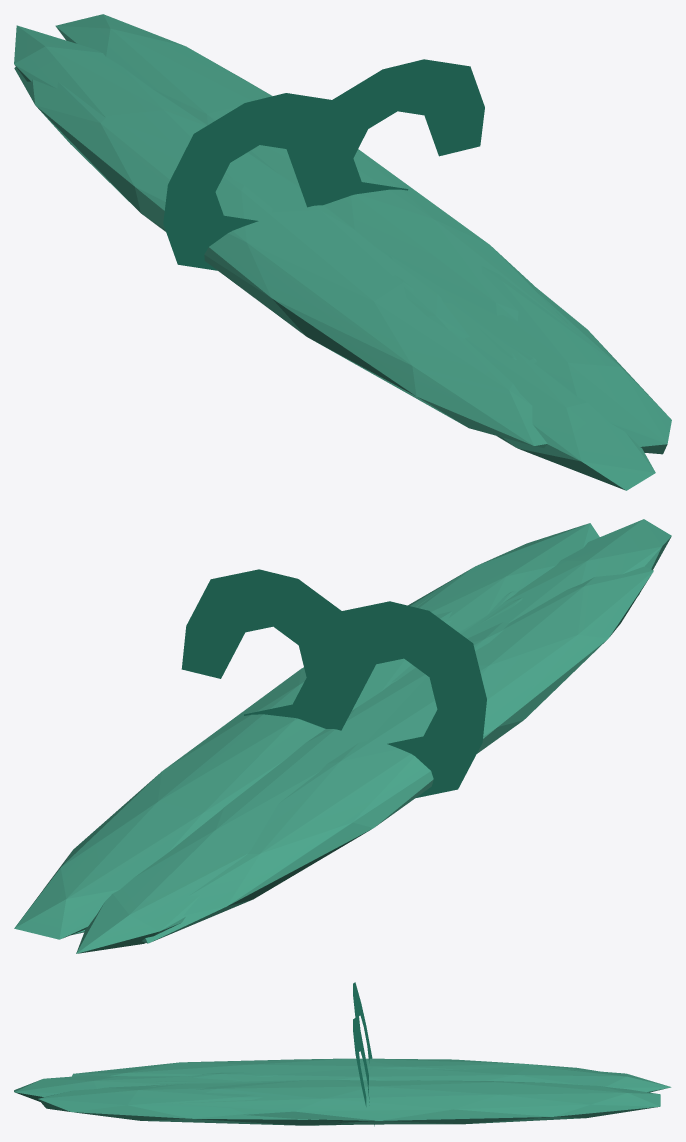
File: lygodium-flexuosum.glb
3 renders of one model, top to bottom at view 1: azimuth 30°, elevation 25°; view 2: azimuth 150°, elevation 25°; view 3: azimuth 270°, elevation 25°, orthographic. The views are drawn at different scales.
Visible parts, largest first — view 1: frond3, frond0, frond4, fiddle1, fiddle-1, frond1, frond2, frond6; view 2: frond3, frond0, frond4, fiddle1, fiddle-1, frond1, frond2; view 3: frond0, frond1, frond4, frond3, frond2, fiddle-1, fiddle1, frond6.
Boxes of the visible parts, x1,y1,x2,y2 form: frond3: [14, 67, 547, 447]; frond0: [55, 14, 577, 333]; frond4: [14, 25, 469, 339]; fiddle1: [301, 59, 484, 207]; fiddle-1: [163, 93, 345, 270]; frond1: [440, 266, 671, 454]; frond2: [442, 299, 655, 490]; frond6: [388, 256, 536, 363]; frond3: [142, 566, 653, 943]; frond0: [14, 594, 452, 939]; frond4: [76, 622, 509, 953]; fiddle1: [181, 569, 356, 730]; fiddle-1: [322, 601, 486, 797]; frond1: [408, 523, 599, 632]; frond2: [461, 519, 671, 638]; frond0: [172, 1080, 660, 1124]; frond1: [38, 1083, 354, 1125]; frond4: [190, 1066, 671, 1092]; frond3: [72, 1058, 599, 1076]; frond2: [14, 1075, 238, 1101]; fiddle-1: [353, 982, 372, 1070]; fiddle1: [353, 1018, 374, 1126]; frond6: [150, 1080, 296, 1086].
Bounding box in the file's own units: 0.184 × 0.1057 × 0.6221.
